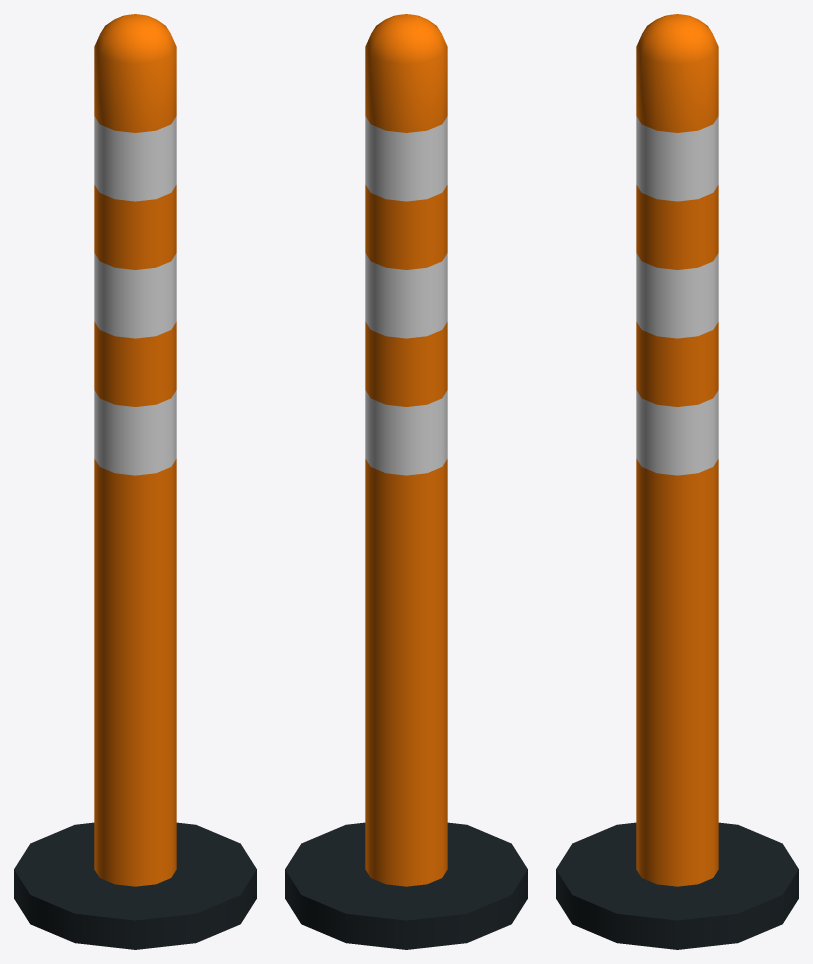
The model's file is SM_FloorProps_05.fbx.
3 views of the same model, side by side, from view 1: azimuth 30°, elevation 25°; view 2: azimuth 150°, elevation 25°; view 3: azimuth 270°, elevation 25° (orthographic).
Visible parts, largest first — view 1: SM_FloorProps_05; view 2: SM_FloorProps_05; view 3: SM_FloorProps_05.
Boxes of the visible parts, x1,y1,x2,y2 form: SM_FloorProps_05: (14, 14, 256, 949); SM_FloorProps_05: (285, 14, 527, 949); SM_FloorProps_05: (556, 14, 798, 949).
Size of the model in its own units: 0.2248 by 0.8977 by 0.2248.
